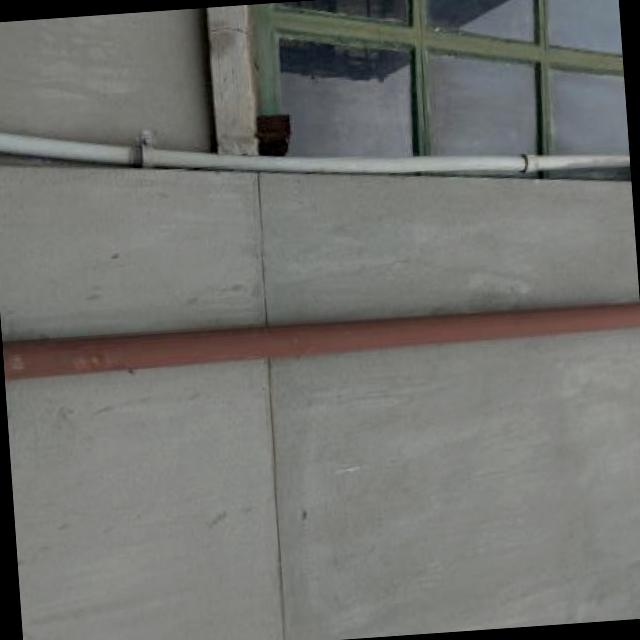gas: (0, 299, 640, 377)
